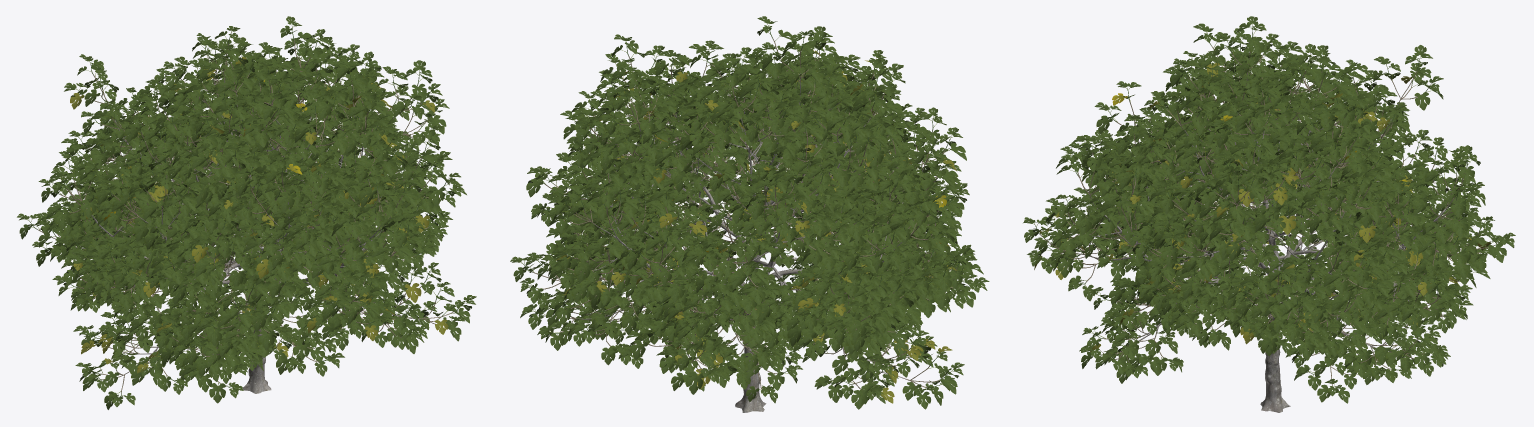
The model's file is Ficus carica HD_Standard no fruit mat 75_LOD0.fbx.
3 views of the same model, side by side, from view 1: azimuth 30°, elevation 25°; view 2: azimuth 150°, elevation 25°; view 3: azimuth 270°, elevation 25° (orthographic). The views are drawn at different scales.
Visible parts, largest first — view 1: Ficus_carica_HD; view 2: Ficus_carica_HD; view 3: Ficus_carica_HD.
Boxes of the visible parts, x1,y1,x2,y2 form: Ficus_carica_HD: (17, 16, 476, 409); Ficus_carica_HD: (510, 16, 989, 412); Ficus_carica_HD: (1023, 16, 1515, 412).
Bounding box in the file's own units: 4.92 × 4.21 × 5.2.
10 materials, 10 textured.
